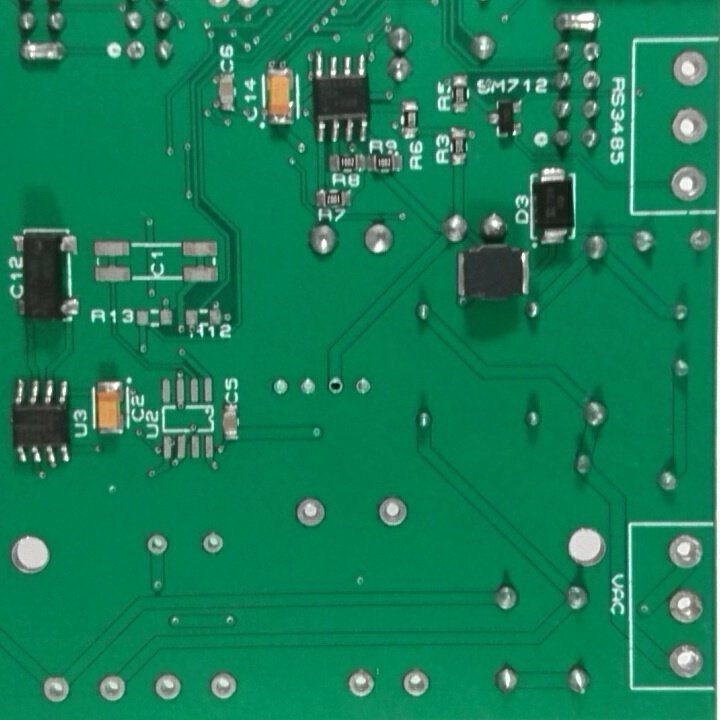F: (667, 162, 710, 206), (663, 640, 708, 680), (668, 106, 711, 147), (671, 45, 710, 89), (664, 533, 707, 572), (664, 587, 707, 626), (294, 492, 330, 532), (374, 495, 411, 530), (150, 671, 186, 705), (39, 670, 73, 706), (399, 666, 434, 700), (344, 664, 378, 699), (96, 669, 127, 707), (207, 668, 239, 703), (686, 225, 714, 256), (144, 531, 171, 562), (201, 529, 226, 558), (296, 374, 320, 401), (124, 40, 150, 63), (582, 68, 603, 92), (354, 375, 375, 399), (270, 375, 290, 398), (327, 378, 347, 398)
P: (551, 9, 605, 38), (19, 38, 67, 68)
